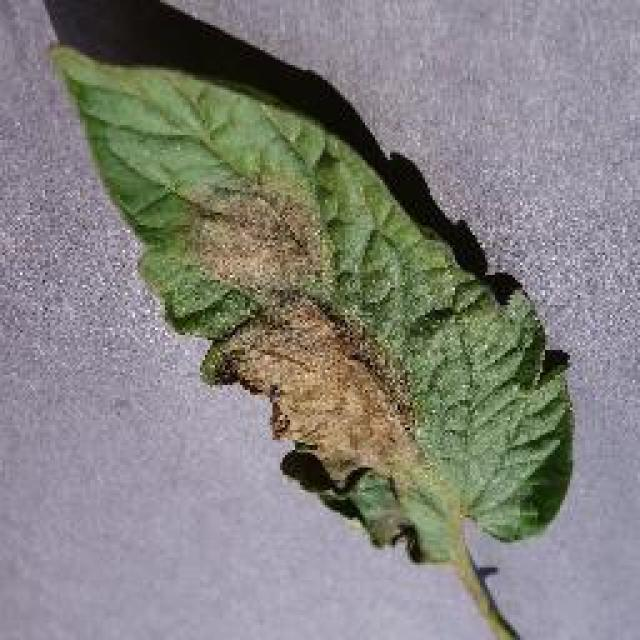Tomato Late Blight: (138, 137, 452, 498)
